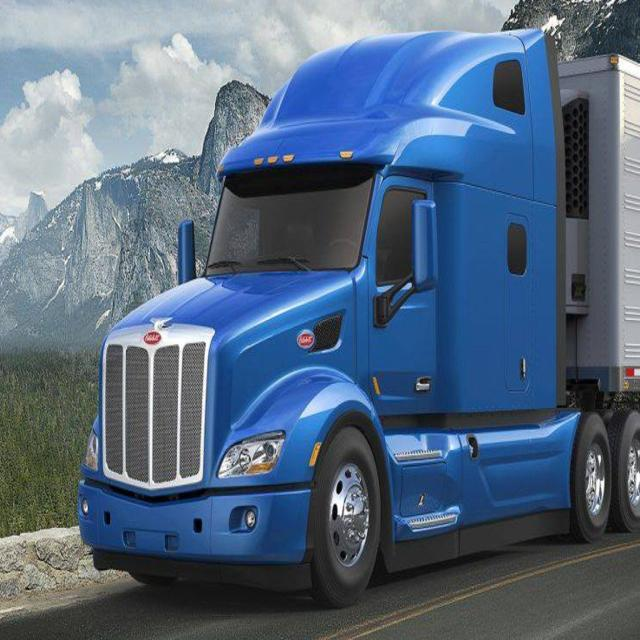TRUCK: (78, 18, 640, 605)
